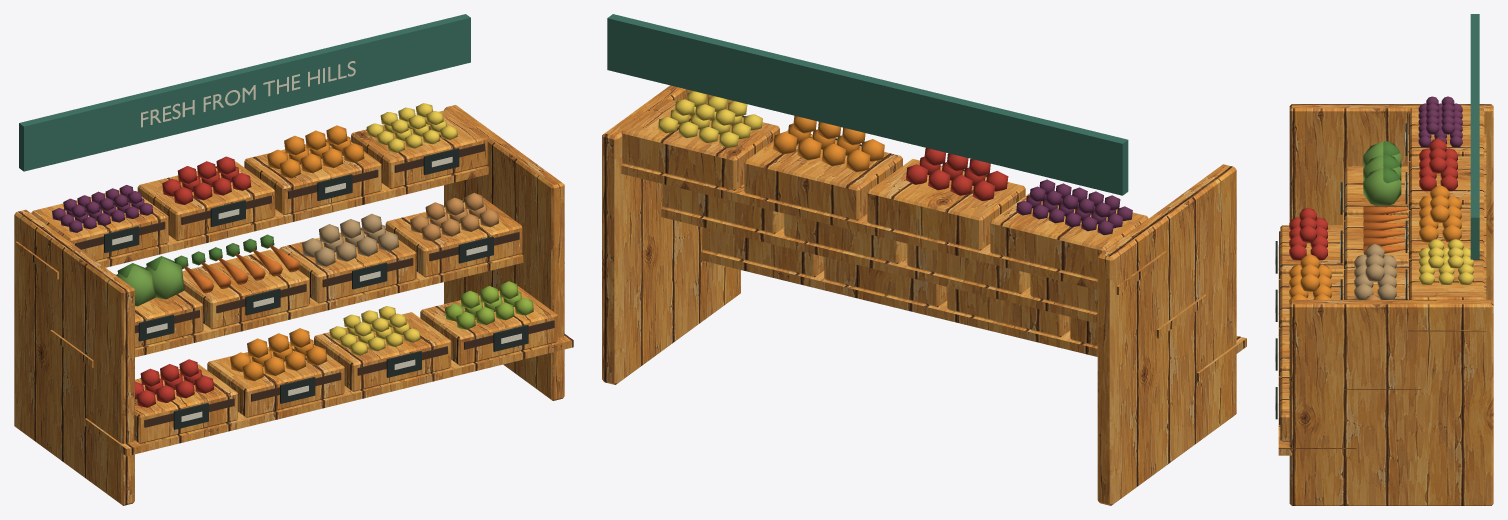
3 renders of one model, left to right at view 1: azimuth 30°, elevation 25°; view 2: azimuth 150°, elevation 25°; view 3: azimuth 270°, elevation 25°, orthographic. The views are drawn at different scales.
Parts seen in each view (by area): view 1: shop_oak, shop_pantry_wainscot, shop_chalk, shop_orange, shop_wood_dark, shop_lemon, shop_apple, shop_potato, shop_paper, shop_plum, shop_apple_green, shop_onion (+3 smaller); view 2: shop_oak, shop_pantry_wainscot, shop_plum, shop_orange, shop_lemon, shop_apple; view 3: shop_oak, shop_orange, shop_apple, shop_pantry_wainscot, shop_lemon, shop_potato, shop_plum, shop_cabbage, shop_carrot, shop_chalk, shop_wood_dark, shop_leaf.
Boxes of the visible parts, x1,y1,x2,y2 form: shop_oak: [14, 105, 573, 505]; shop_pantry_wainscot: [19, 14, 470, 171]; shop_chalk: [104, 148, 528, 429]; shop_orange: [230, 125, 364, 381]; shop_wood_dark: [75, 143, 554, 427]; shop_lemon: [329, 103, 457, 355]; shop_apple: [135, 156, 251, 407]; shop_potato: [302, 213, 398, 266]; shop_paper: [112, 61, 521, 421]; shop_plum: [52, 185, 153, 232]; shop_apple_green: [445, 281, 533, 329]; shop_onion: [410, 193, 498, 241]; shop_oak: [602, 85, 1246, 505]; shop_pantry_wainscot: [607, 14, 1128, 195]; shop_plum: [1016, 179, 1132, 235]; shop_orange: [773, 115, 884, 172]; shop_lemon: [658, 91, 762, 147]; shop_apple: [905, 148, 1008, 201]; shop_oak: [1278, 104, 1493, 505]; shop_orange: [1289, 185, 1461, 305]; shop_apple: [1289, 138, 1457, 260]; shop_pantry_wainscot: [1470, 14, 1479, 259]; shop_lemon: [1289, 239, 1473, 349]; shop_potato: [1354, 244, 1396, 299]; shop_plum: [1418, 96, 1462, 147]; shop_cabbage: [1363, 141, 1401, 205]; shop_carrot: [1363, 206, 1408, 254]; shop_chalk: [1275, 123, 1407, 419]; shop_wood_dark: [1279, 113, 1410, 424]; shop_leaf: [1383, 141, 1408, 247].
Bounding box in the file's own units: 2.6 × 1.73 × 1.18.
15 materials, 1 textured.
